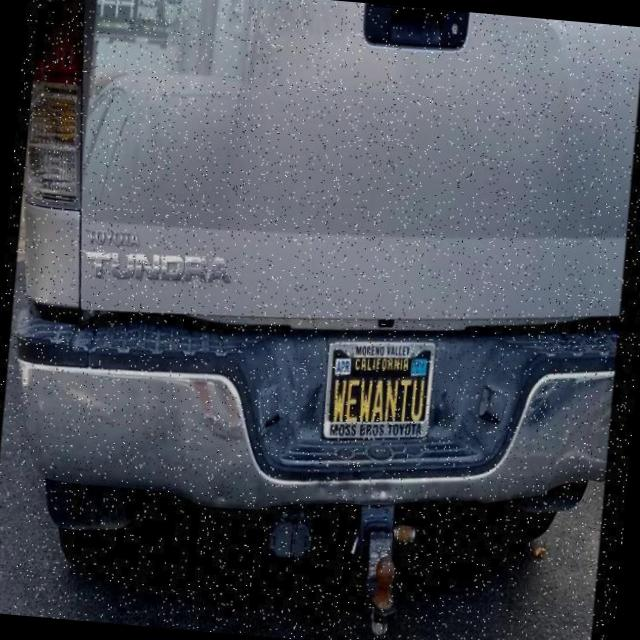LicensePlate: (320, 340, 438, 444)
